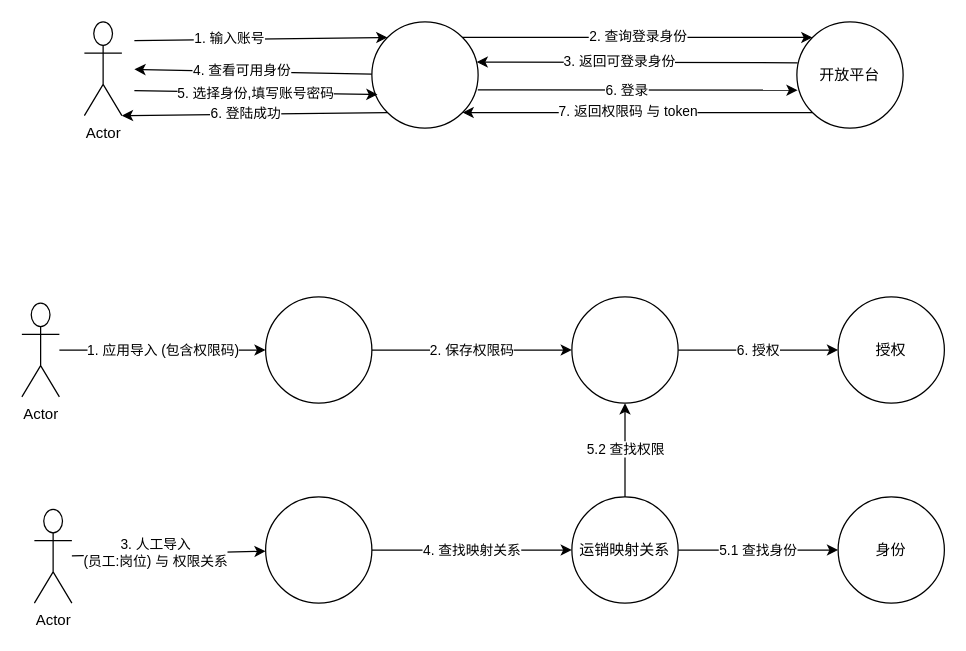
This 966x651 diagram has some shape labels left out. Here are the shapes that lost their labels. From the top down, the box of each, then its label:
(371, 21, 478, 128): 运销
(264, 296, 372, 403): 应用中心
(571, 296, 678, 403): 角色
(264, 496, 372, 603): 解析 数据
